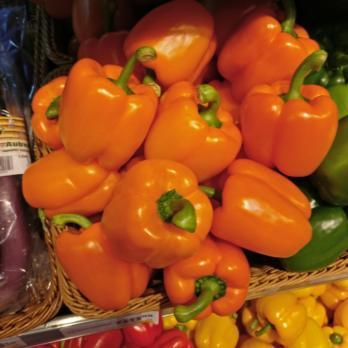Capsicum: (17, 0, 348, 348)
